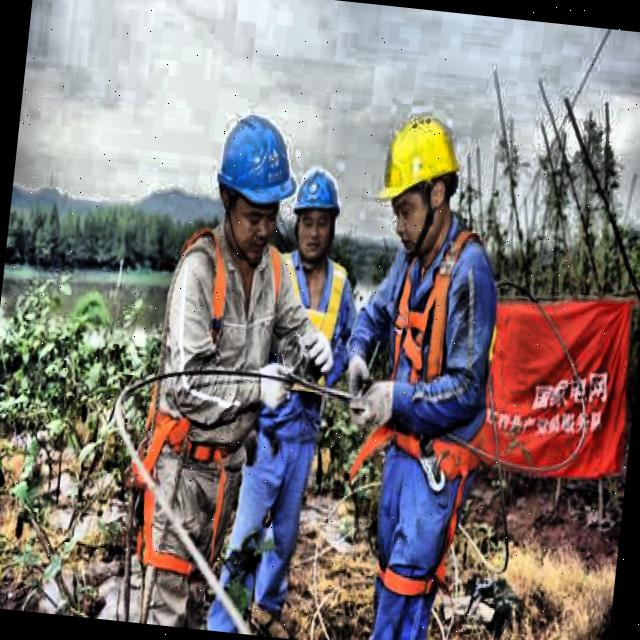helmet: (368, 100, 474, 264), (208, 99, 304, 264), (283, 158, 348, 269)
